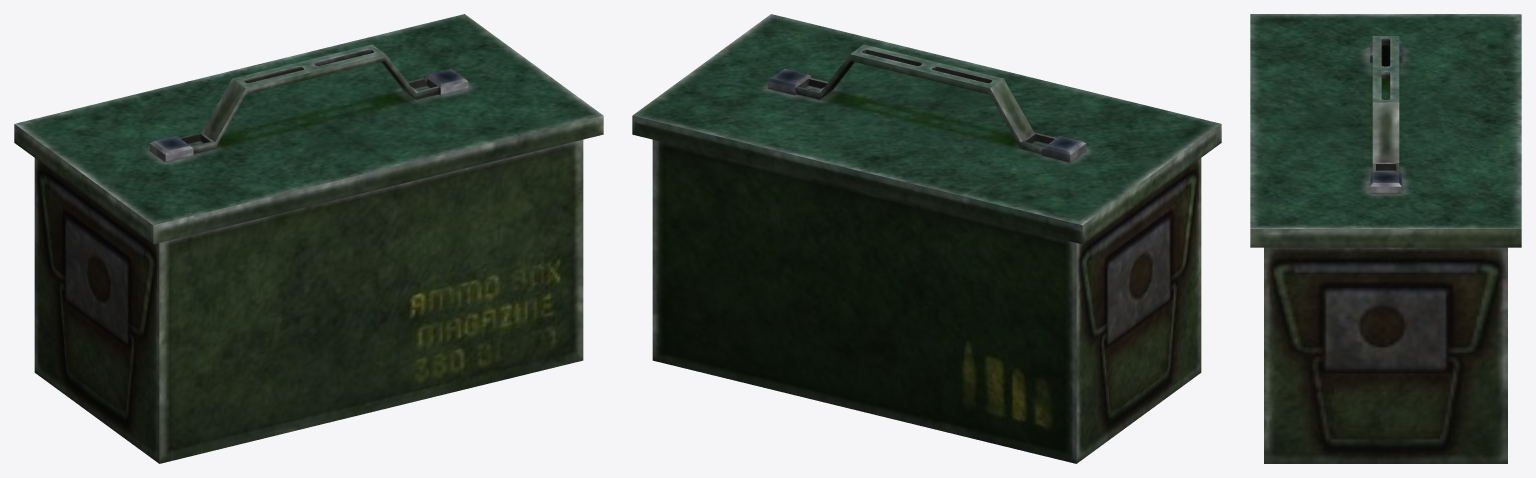
File: ammo_box.glb
3 views of the same model, side by side, from view 1: azimuth 30°, elevation 25°; view 2: azimuth 150°, elevation 25°; view 3: azimuth 270°, elevation 25° (orthographic). The views are drawn at different scales.
Parts seen in each view (by area): view 1: ammobox_low, ammoboxup_low; view 2: ammobox_low, ammoboxup_low; view 3: ammoboxup_low, ammobox_low.
Part boxes in pixels (bbox=[...]): ammobox_low: bbox=[34, 139, 583, 463]; ammoboxup_low: bbox=[14, 14, 603, 244]; ammobox_low: bbox=[652, 139, 1201, 463]; ammoboxup_low: bbox=[632, 14, 1221, 244]; ammoboxup_low: bbox=[1250, 14, 1521, 247]; ammobox_low: bbox=[1264, 247, 1507, 463].
Bounding box in the file's own units: 0.2295 × 0.1462 × 0.1225.
1 material, 1 textured.
